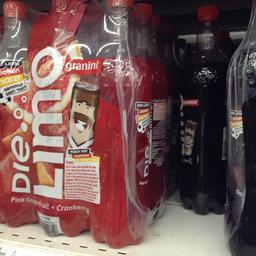soda: (88, 0, 153, 246), (30, 0, 89, 237), (178, 2, 226, 212)
